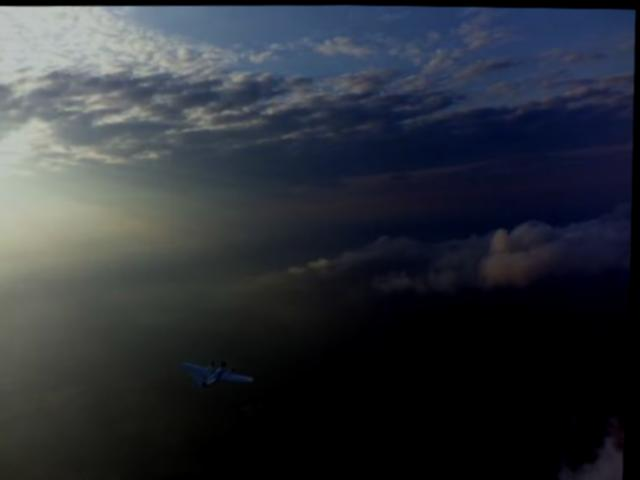uav: (183, 350, 257, 393)
